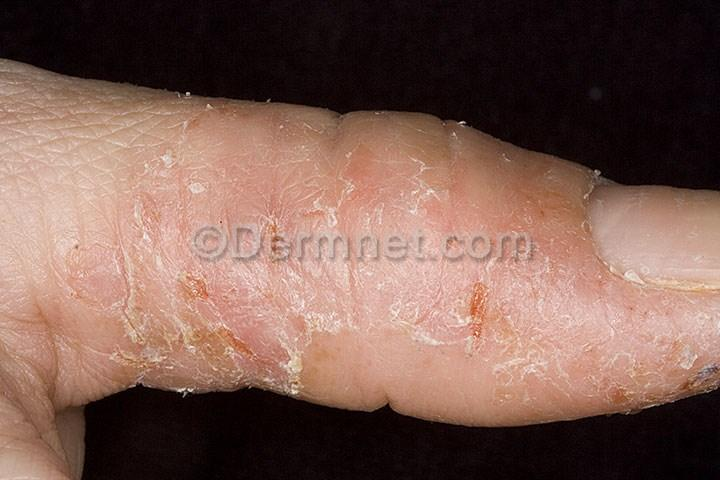Eczema: (191, 258, 720, 420), (19, 78, 187, 425), (194, 97, 582, 229)
